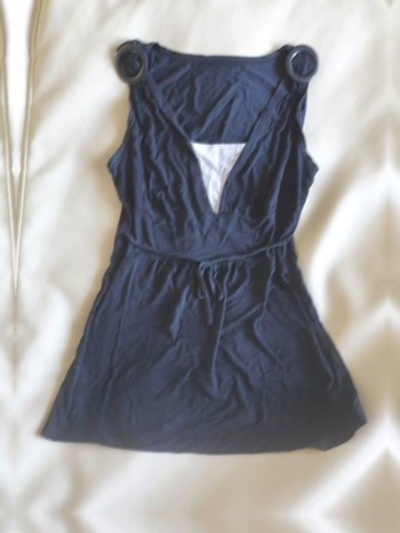Dress: (49, 44, 364, 490)
